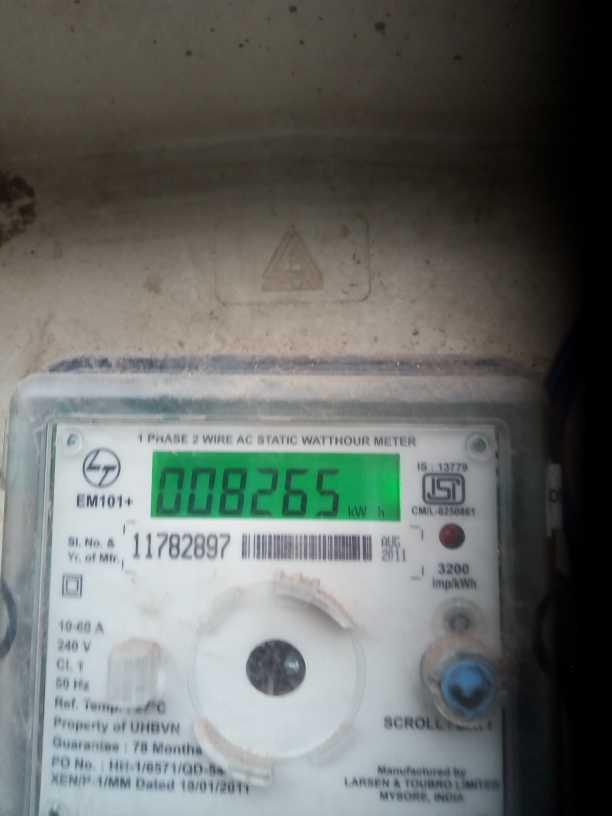.: (346, 501, 389, 522)
1: (188, 463, 217, 517), (160, 463, 185, 516)
3: (251, 464, 279, 516)
6: (315, 467, 340, 518)
7: (283, 465, 309, 516)
9: (220, 465, 246, 516)
